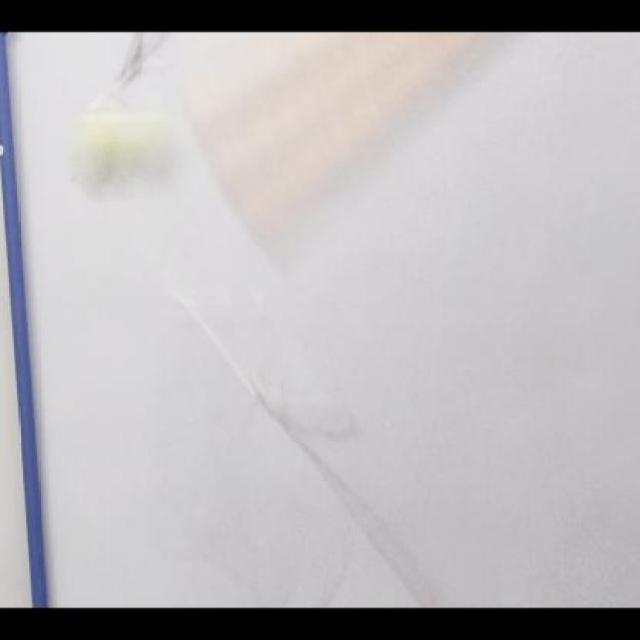baseball: (68, 111, 178, 195)
